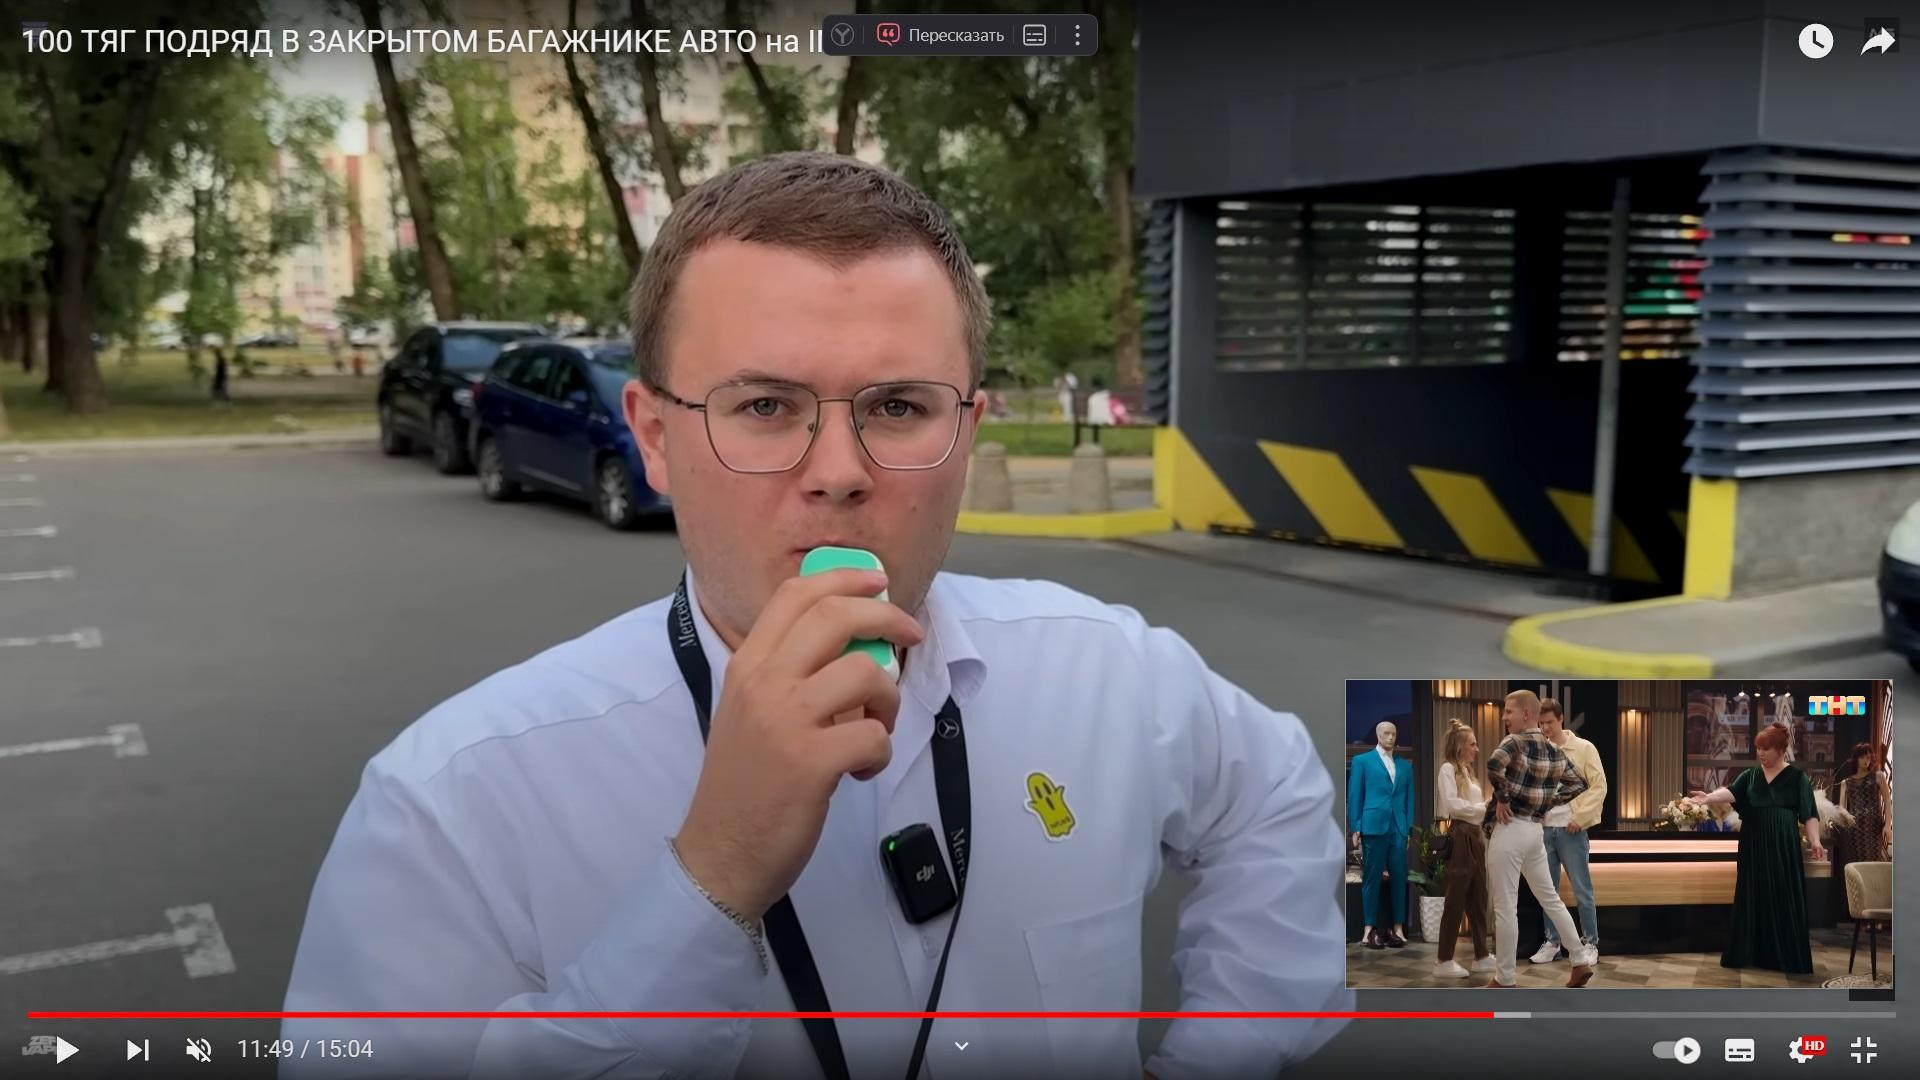Vape: (799, 545, 901, 683)
